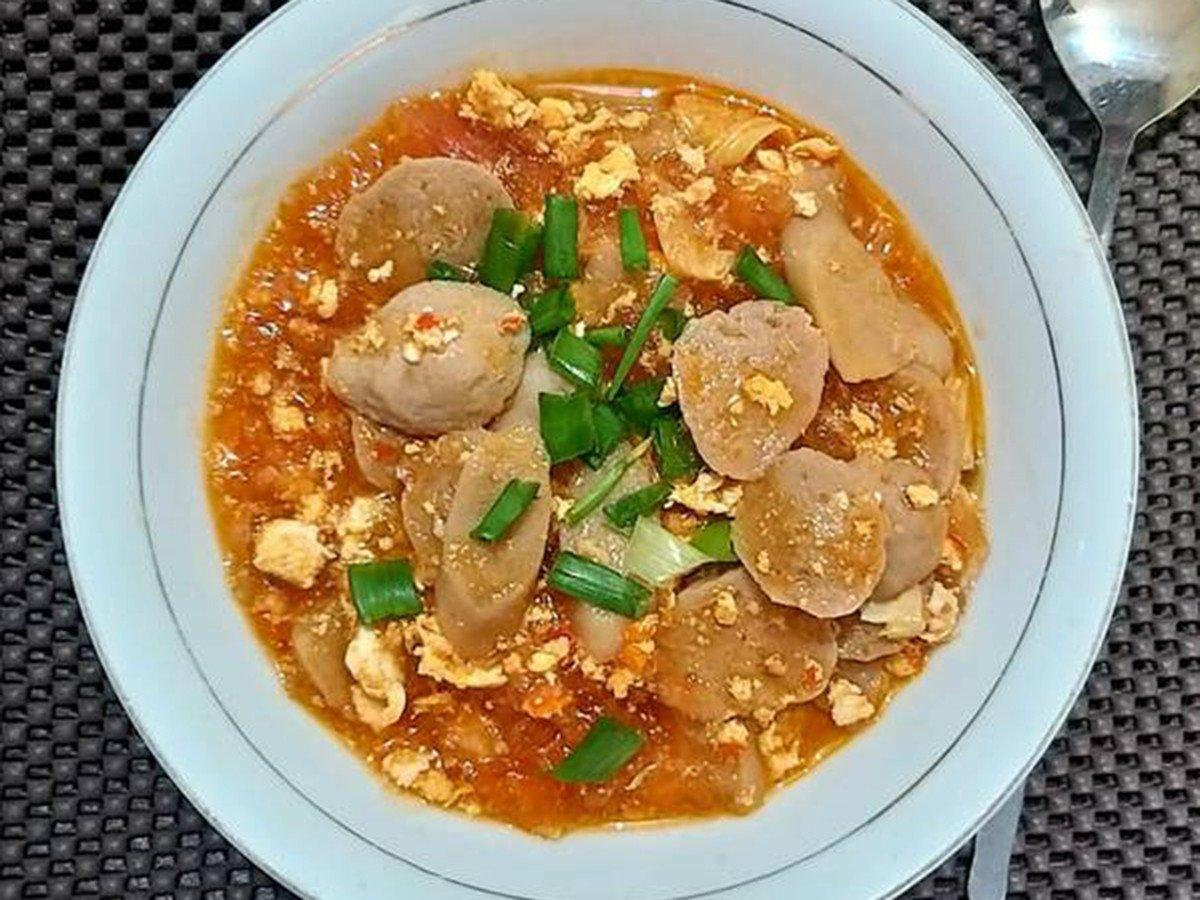seblak: (203, 68, 990, 838)
